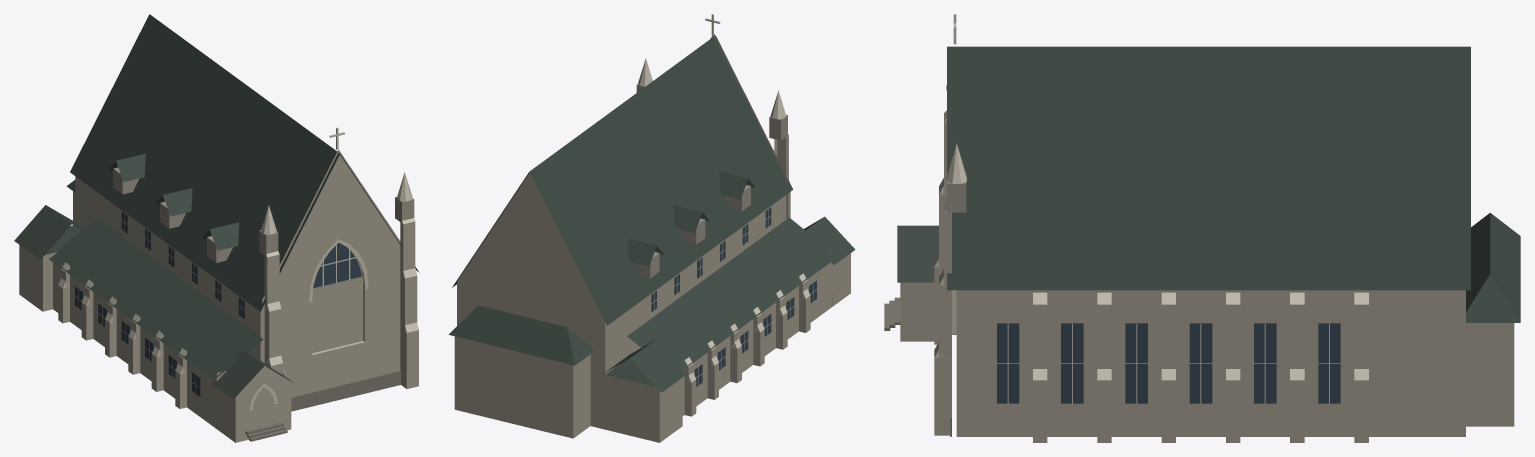
Rendered from christ-church-1941.glb.
3 views of the same model, side by side, from view 1: azimuth 30°, elevation 25°; view 2: azimuth 150°, elevation 25°; view 3: azimuth 270°, elevation 25° (orthographic). The views are drawn at different scales.
Parts seen in each view (by area): view 1: christ_slate, christ_stone, christ_brick, christ_trim, christ_stain, christ_base, christ_stone2, christ_lead; view 2: christ_slate, christ_stone, christ_brick, christ_stain, christ_stone2, christ_trim; view 3: christ_slate, christ_stone, christ_brick, christ_stain, christ_trim, christ_lead.
Part boxes in pixels (bbox=[...]): christ_slate: bbox=[14, 14, 419, 399]; christ_stone: bbox=[19, 149, 400, 442]; christ_brick: bbox=[58, 221, 418, 408]; christ_trim: bbox=[58, 127, 418, 410]; christ_stain: bbox=[75, 212, 361, 396]; christ_base: bbox=[217, 370, 400, 441]; christ_stone2: bbox=[113, 167, 414, 262]; christ_lead: bbox=[75, 214, 361, 393]; christ_slate: bbox=[448, 35, 855, 392]; christ_stone: bbox=[454, 34, 850, 442]; christ_brick: bbox=[684, 135, 810, 416]; christ_stain: bbox=[651, 207, 816, 386]; christ_stone2: bbox=[634, 84, 787, 278]; christ_trim: bbox=[638, 14, 810, 382]; christ_slate: bbox=[897, 46, 1520, 322]; christ_stone: bbox=[900, 282, 1514, 436]; christ_brick: bbox=[934, 121, 1368, 442]; christ_stain: bbox=[997, 323, 1340, 403]; christ_trim: bbox=[934, 14, 1368, 380]; christ_lead: bbox=[997, 323, 1340, 403].
Size of the model in its own units: 21.75 by 25.5 by 39.61.
